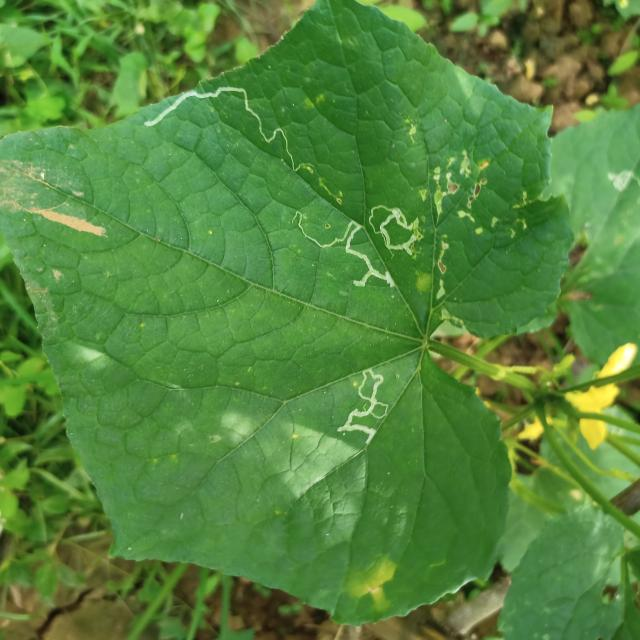disease_cucumber: (350, 559, 397, 615)
